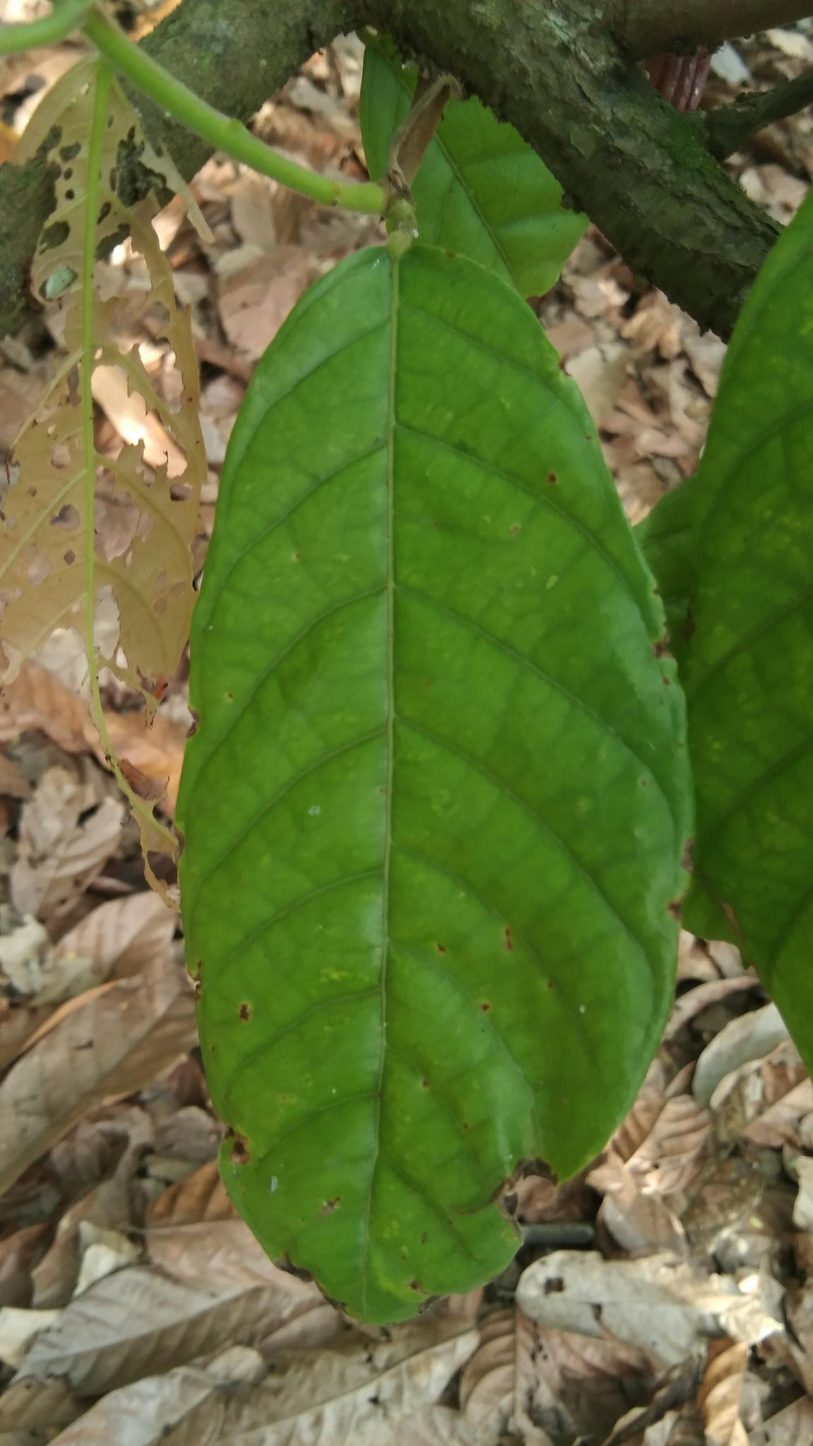Fosforo: (178, 242, 686, 1349)
